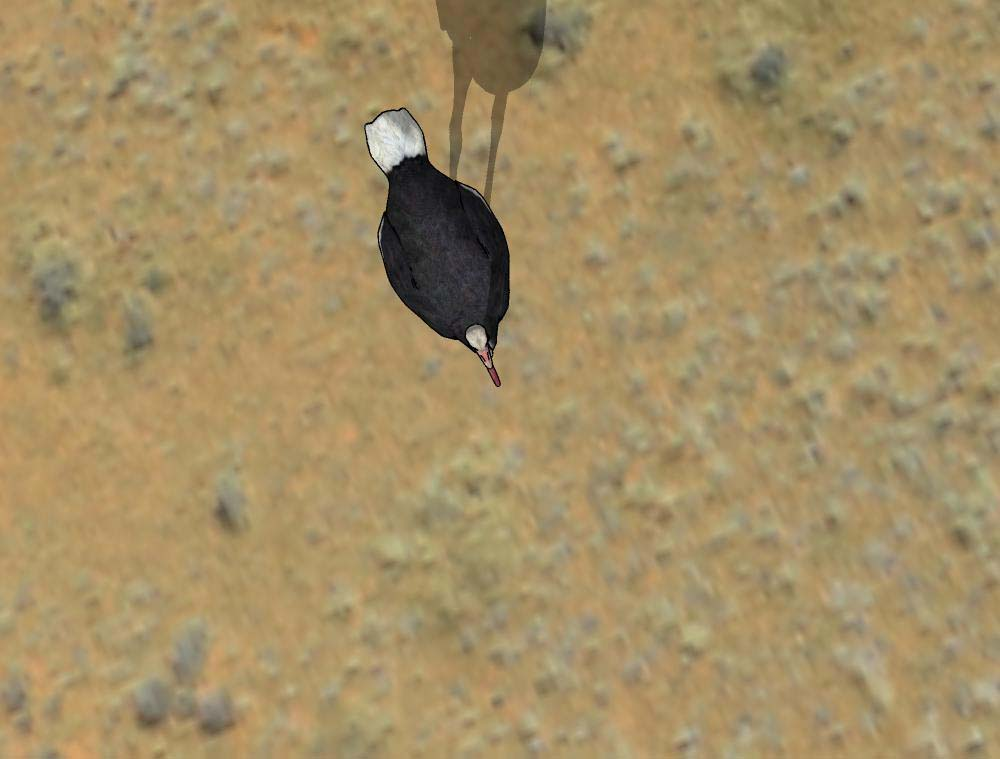ostrich: (350, 113, 511, 394)
